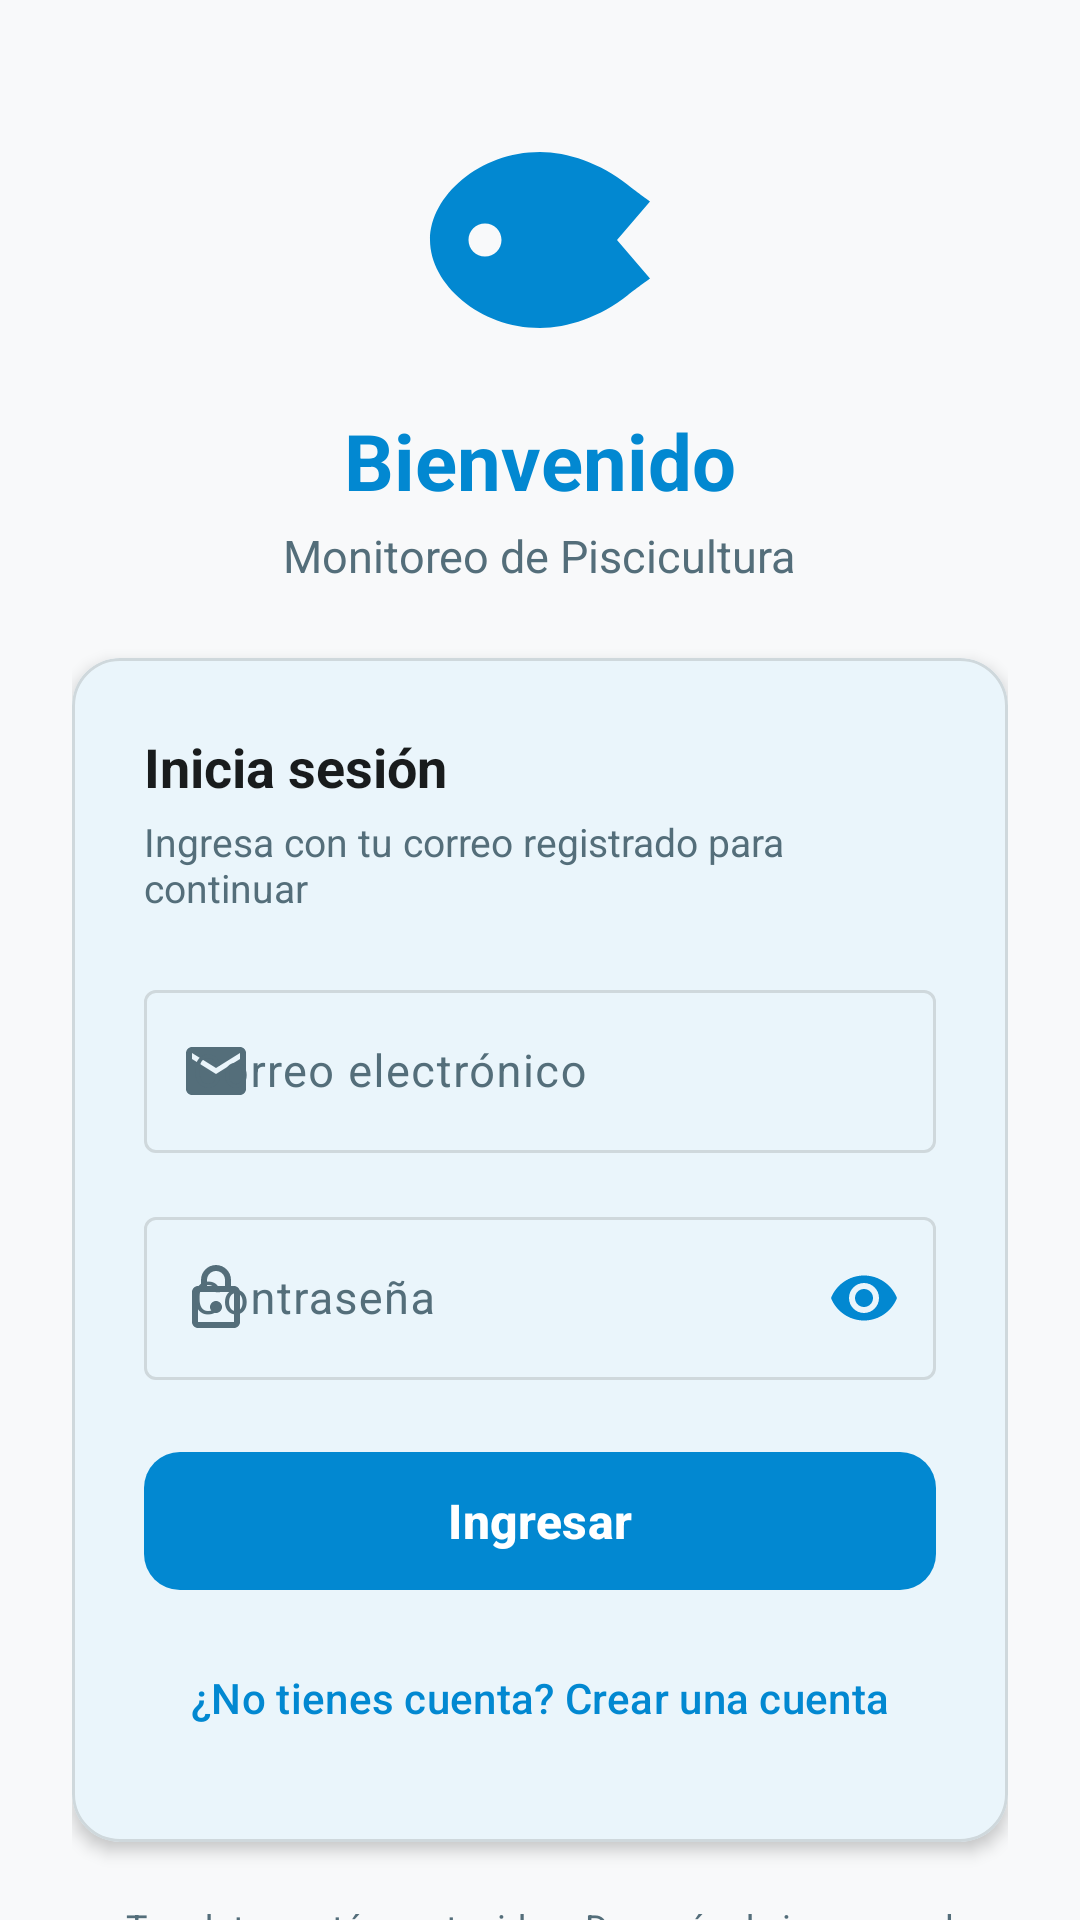

Where icons sit on this 1080*1920 app screen, as (x1, y1, x2, y2):
Monitoreo de Piscicultura: (430, 152, 650, 328)
